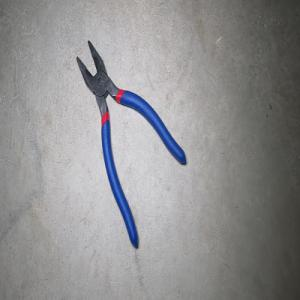Pliers: (76, 39, 186, 248)
